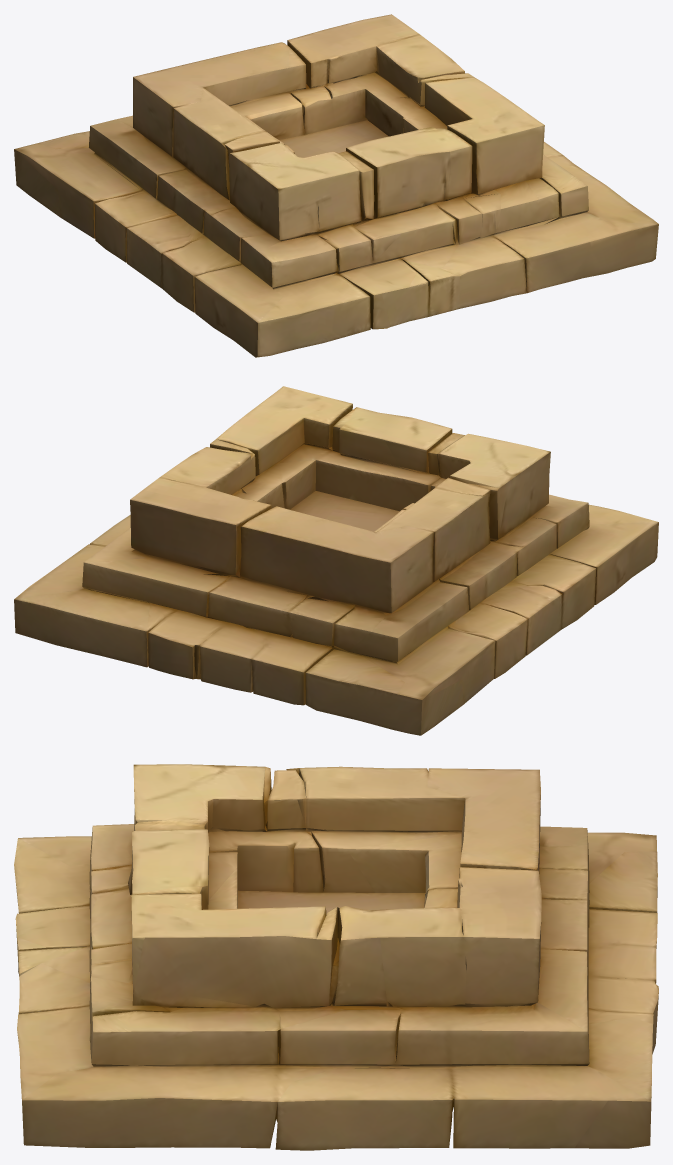
The model's file is m2TempleGapPlatform.glb.
3 renders of one model, top to bottom at view 1: azimuth 30°, elevation 25°; view 2: azimuth 150°, elevation 25°; view 3: azimuth 270°, elevation 25°, orthographic. The views are drawn at different scales.
Parts seen in each view (by area): view 1: model; view 2: model; view 3: model.
Boxes of the visible parts, x1,y1,x2,y2 form: model: [14, 14, 658, 357]; model: [14, 386, 658, 735]; model: [14, 764, 658, 1150].
Bounding box in the file's own units: 1.85 × 0.5446 × 1.9.
Materials: 1 (1 with a texture image).
